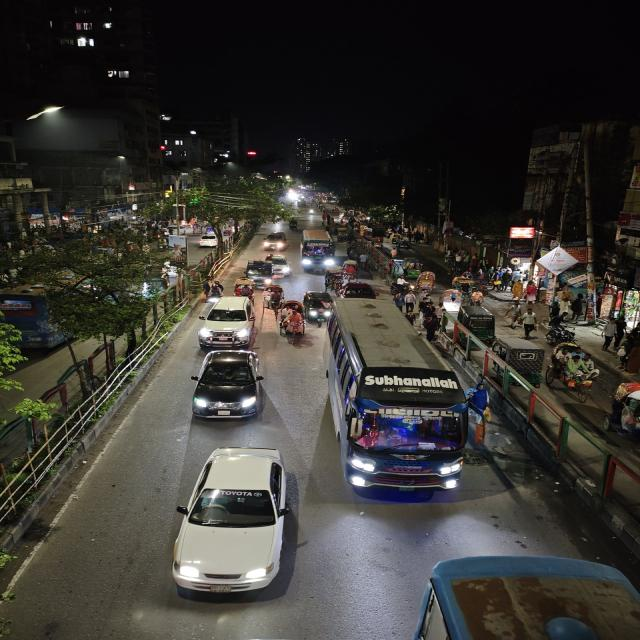bus: (327, 298, 469, 502), (298, 228, 337, 272)
car: (171, 443, 301, 607), (188, 347, 268, 425), (196, 296, 258, 348), (462, 308, 498, 344), (340, 280, 379, 299), (261, 231, 289, 252), (270, 256, 292, 278), (198, 234, 220, 248)
cng: (304, 290, 335, 325)
motorcycle: (262, 283, 286, 312)
pedestrian: (606, 378, 640, 441), (467, 381, 496, 429), (601, 312, 626, 354), (620, 327, 640, 374), (544, 308, 566, 346), (420, 311, 442, 342), (519, 308, 539, 340), (546, 297, 565, 329), (403, 289, 418, 319), (467, 285, 488, 305), (359, 253, 366, 270)
pickup_van: (244, 258, 275, 284)
rickshaw: (542, 341, 602, 404), (494, 339, 547, 387), (277, 302, 306, 346), (261, 283, 285, 311), (324, 269, 346, 293), (414, 270, 437, 292), (340, 259, 360, 281), (402, 258, 422, 278), (288, 218, 300, 232)
